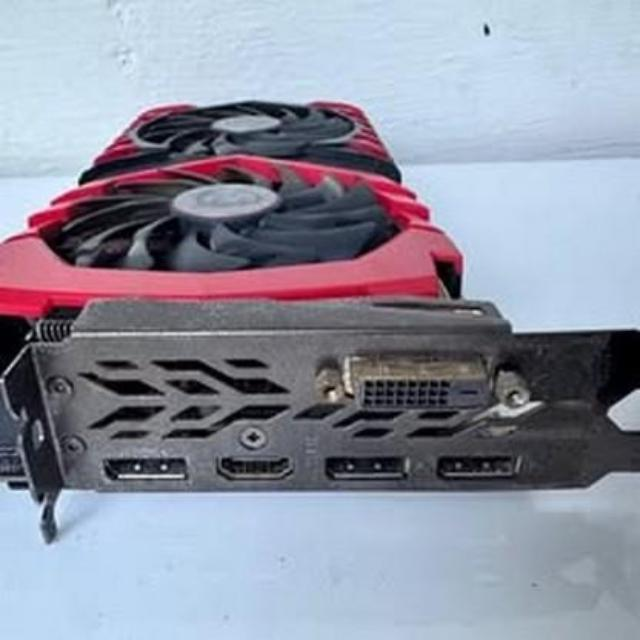GPU: (0, 81, 500, 504)
